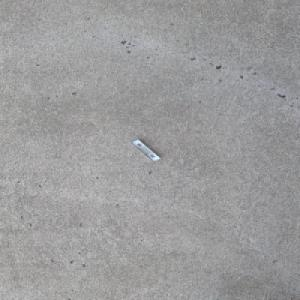ClampPart: (129, 139, 162, 162)
